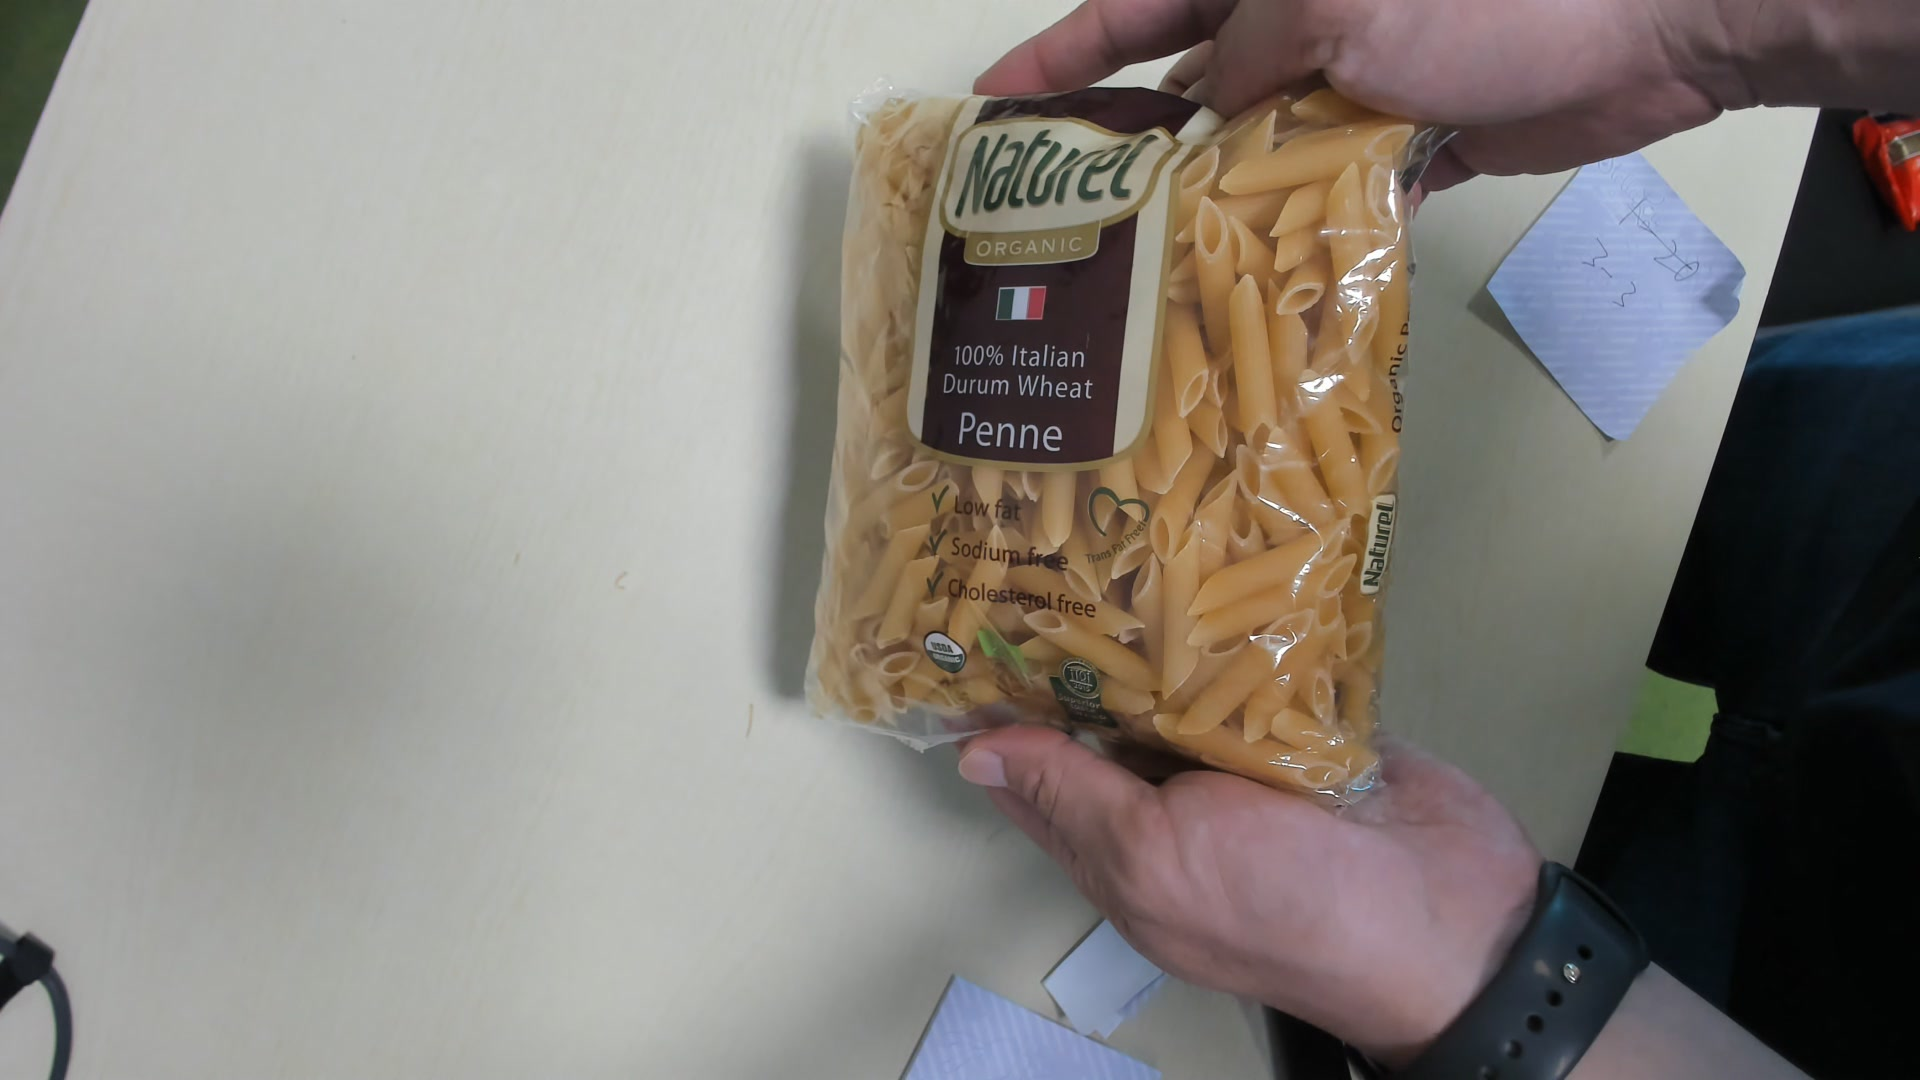Pasta_500-599g_Halal_NonHealthy: (823, 102, 1402, 807)
